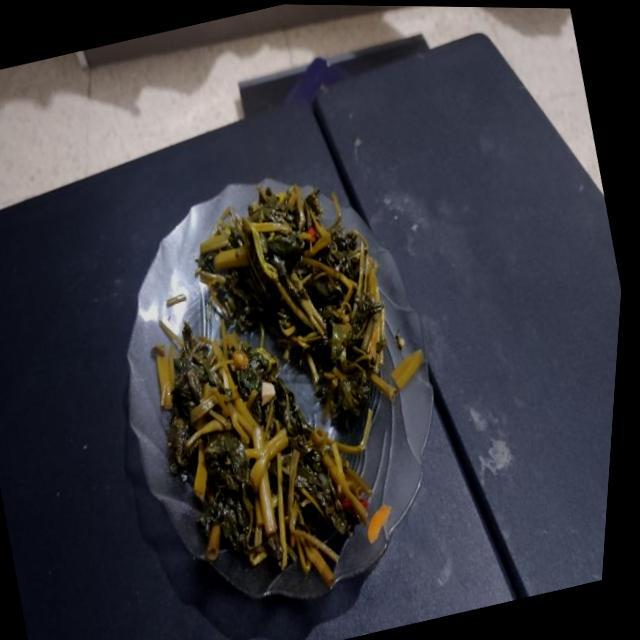tumis_kangkung: (167, 324, 367, 572), (199, 184, 395, 424)
